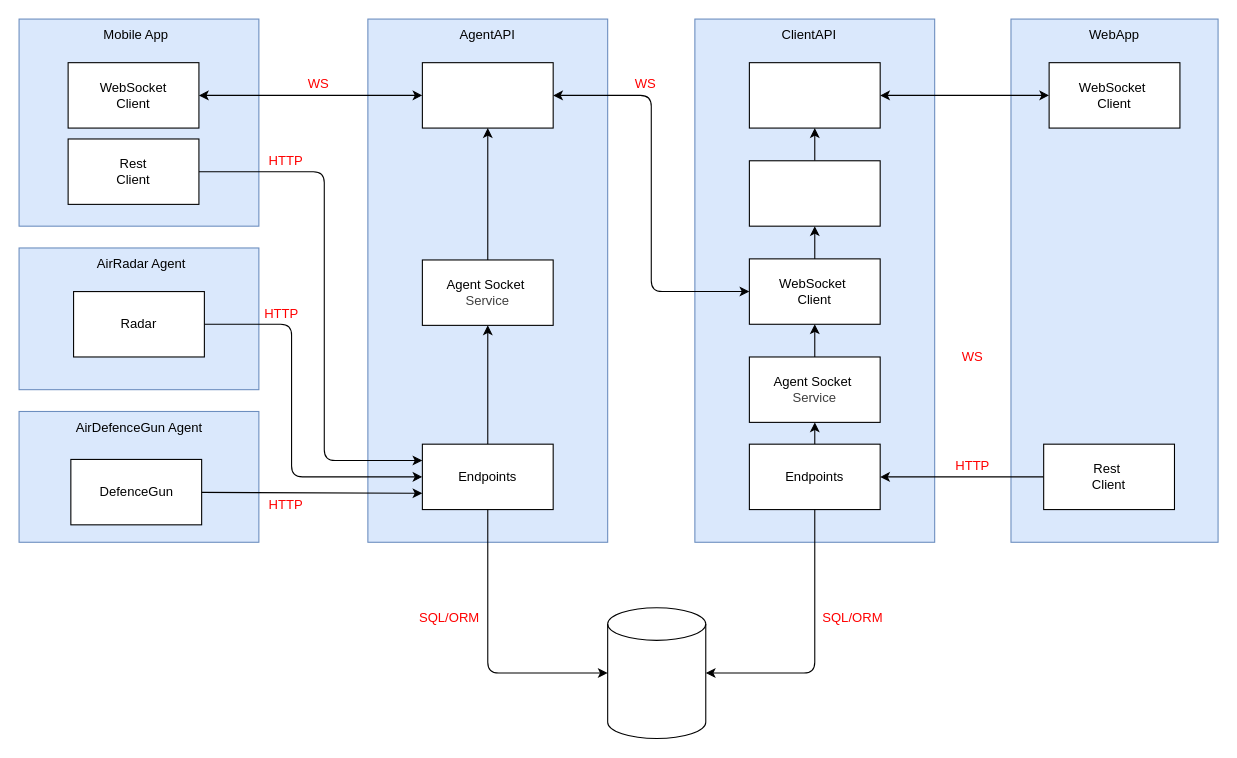
Image size: 1237x758. Some labels were removed from this diagram. Here are the shapes that lost their labels. From the top down, the centre of each, then its label:
At (x=487, y=95): "Agent HUB".
At (x=814, y=95): "Client HUB".
At (x=814, y=193): "Client Socket Service".
At (x=656, y=672): "OpenCMS DB".
